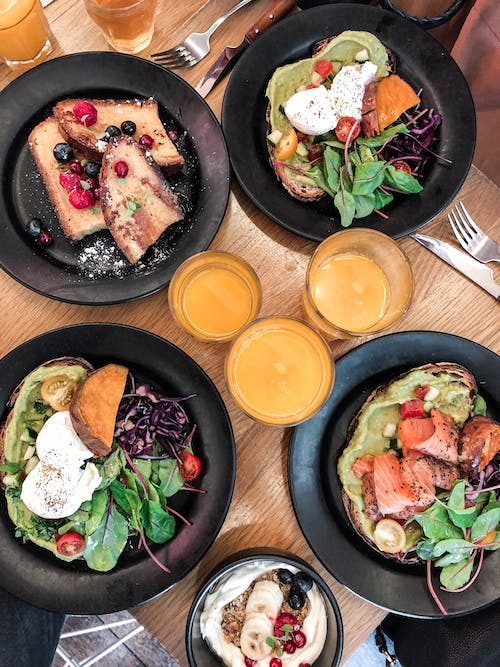knife: (191, 0, 299, 99), (409, 230, 500, 306)
